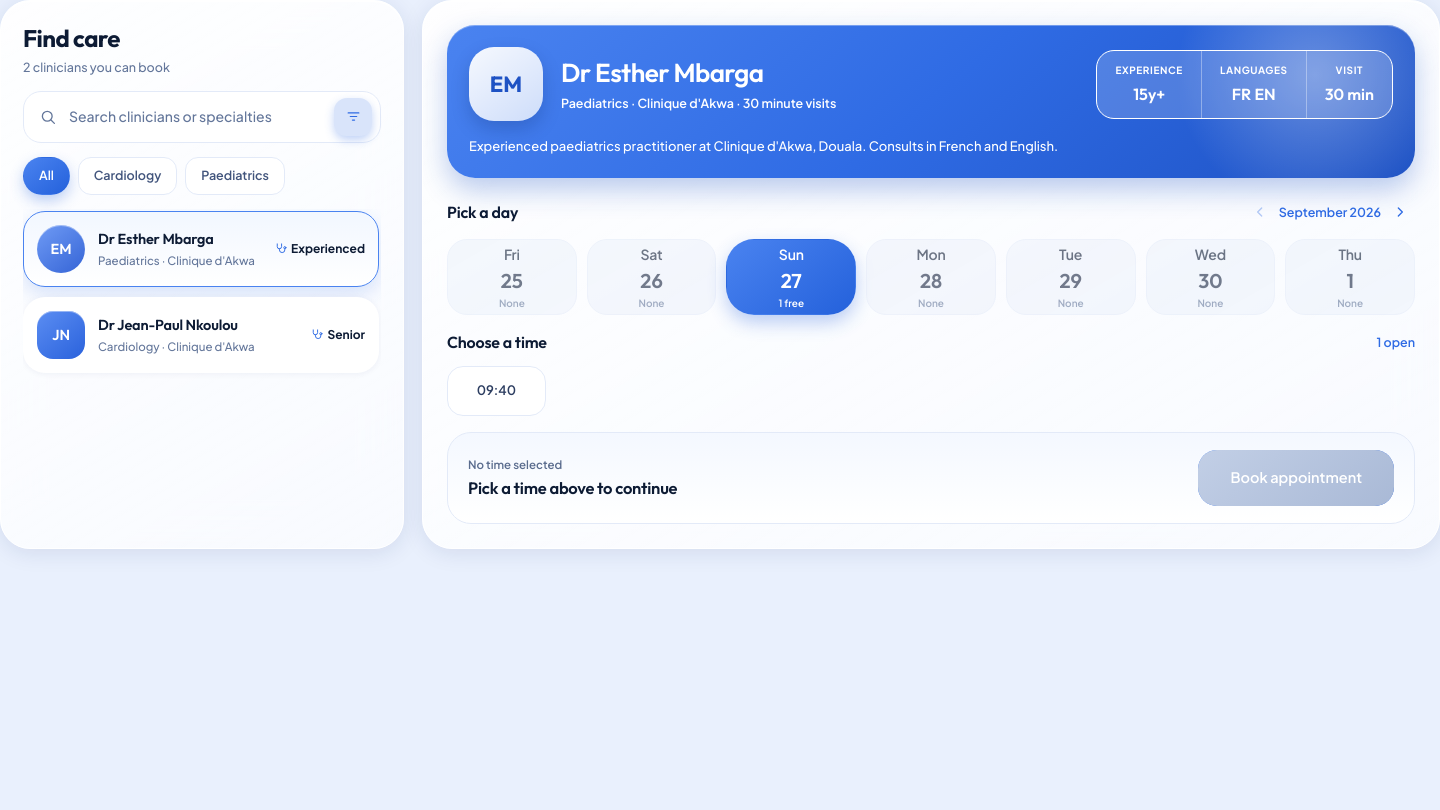
it: FindCare › narrows by specialty
What coordinates should you click on to do the following:
click the button "Cardiology"
I would click on:
 (128, 176)
Its box is [78,157,177,195].
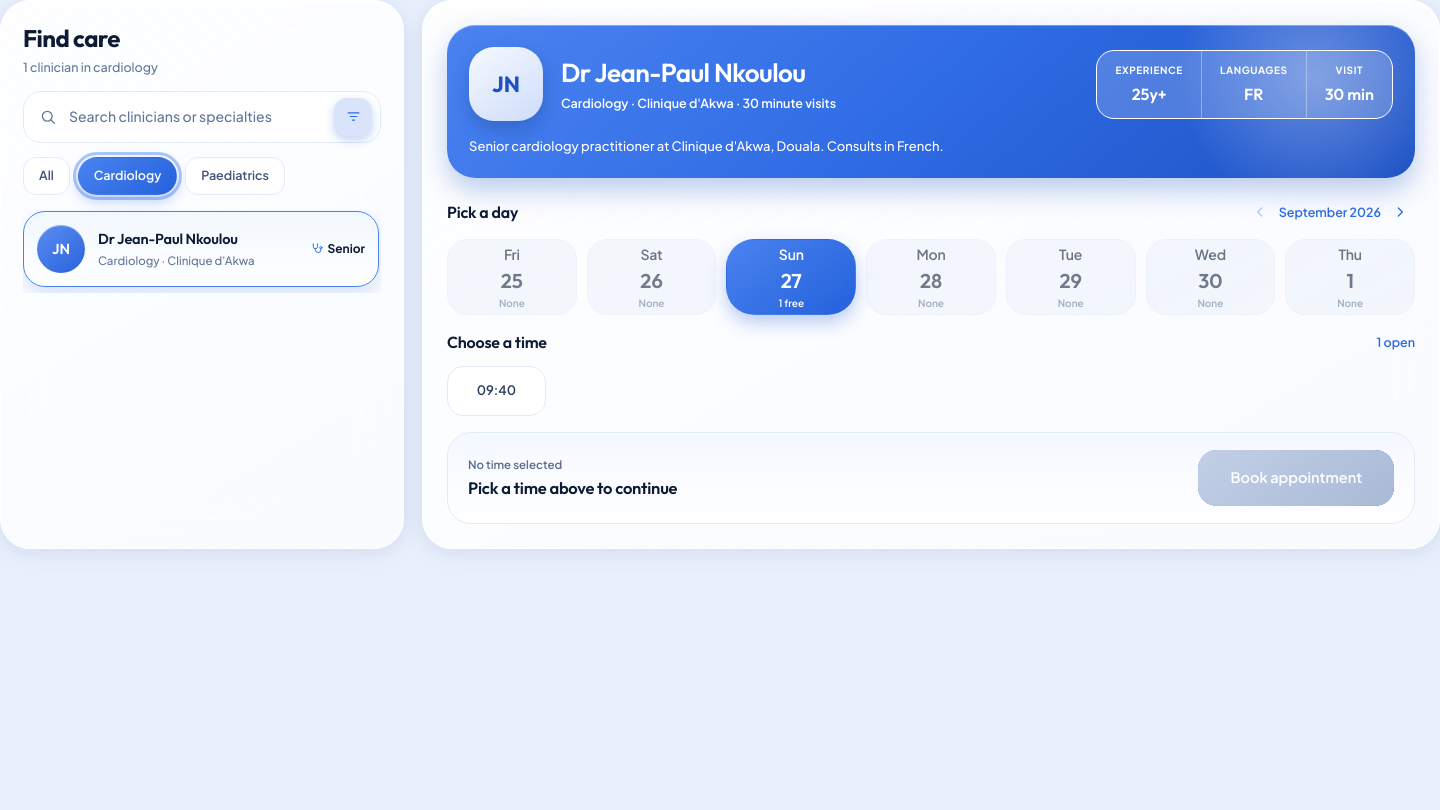
Expected: the text "Dr Jean-Paul Nkoulou" is shown, [98,229,238,248]
Result: the button "Dr Esther Mbarga" is gone
